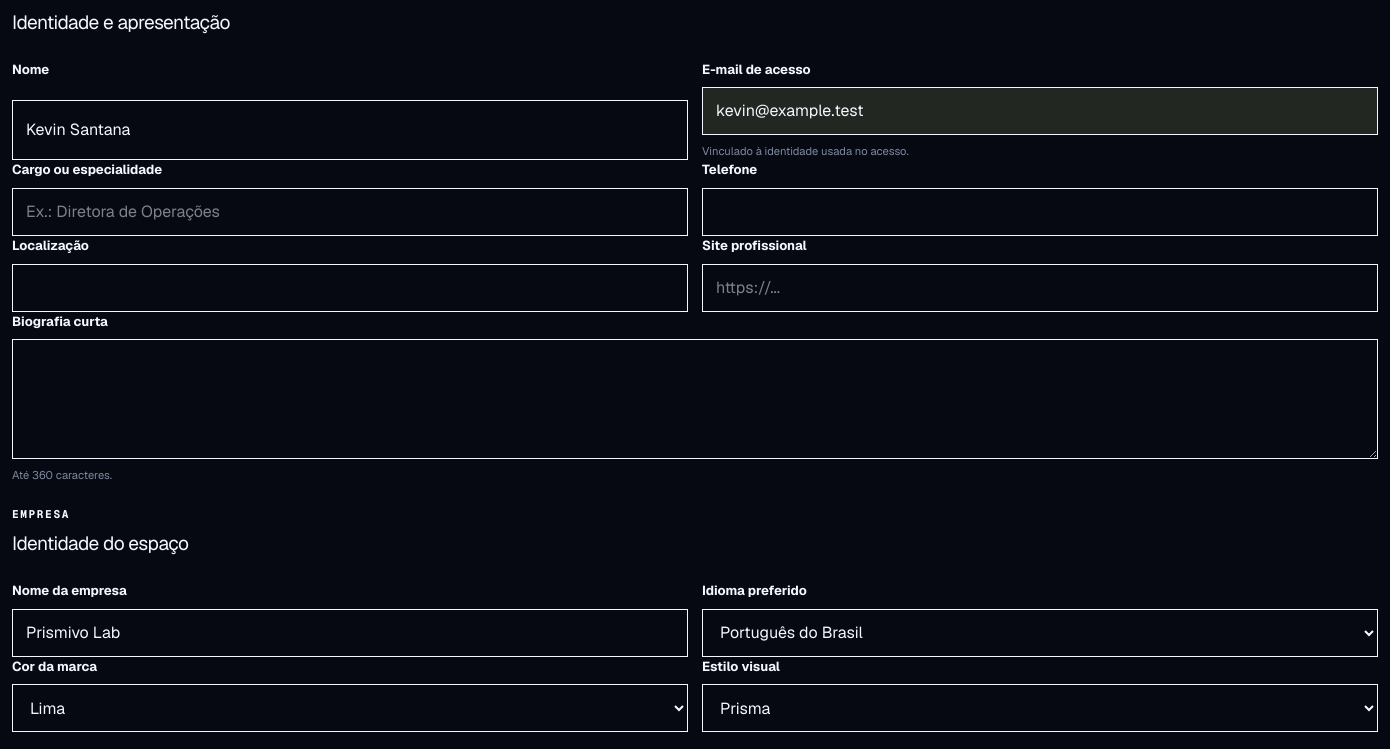
Scenario: settings preference transaction › marks regular profile edits as pending
In the field labelled "Cargo ou especialidade": (350, 212) left=12, top=188, right=688, bottom=236, type "Founder"
(page scrolled)
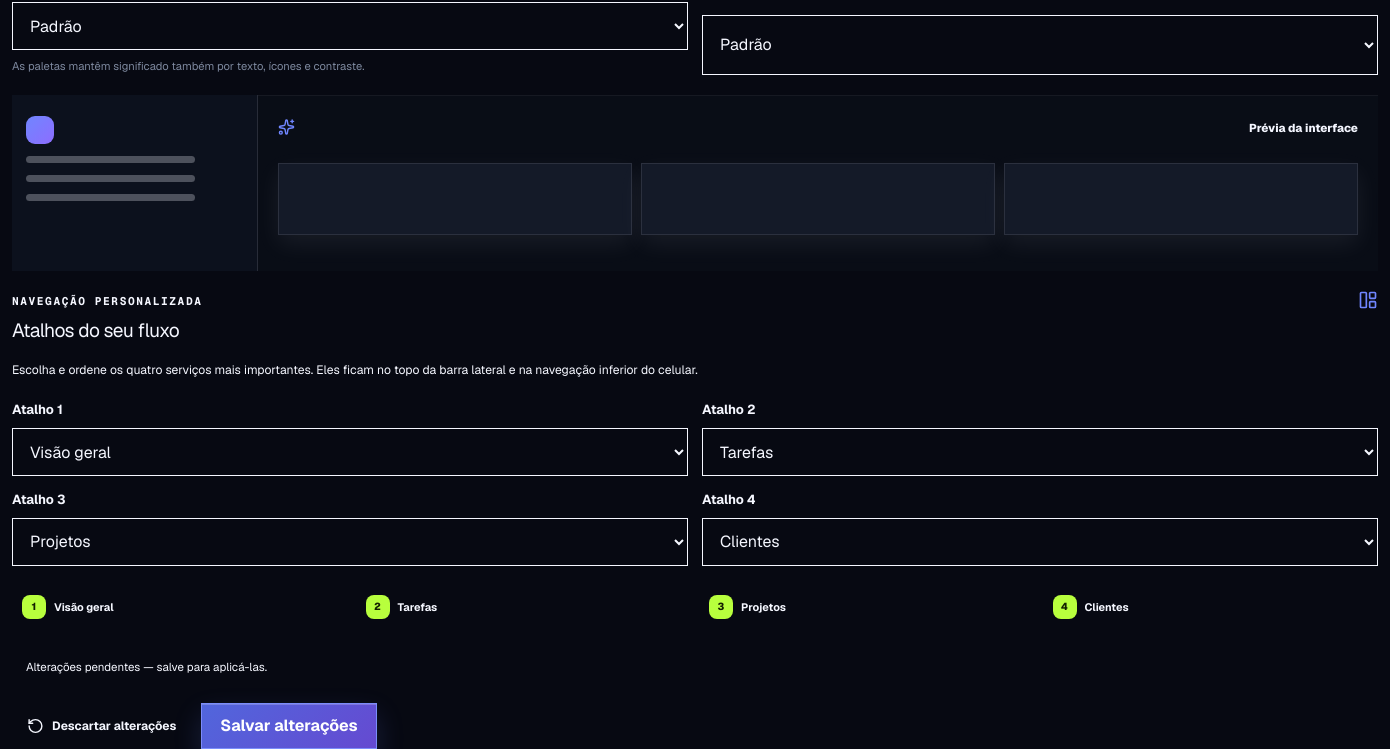
Expected: the button "Salvar alterações" is enabled, left=201, top=703, right=377, bottom=748
